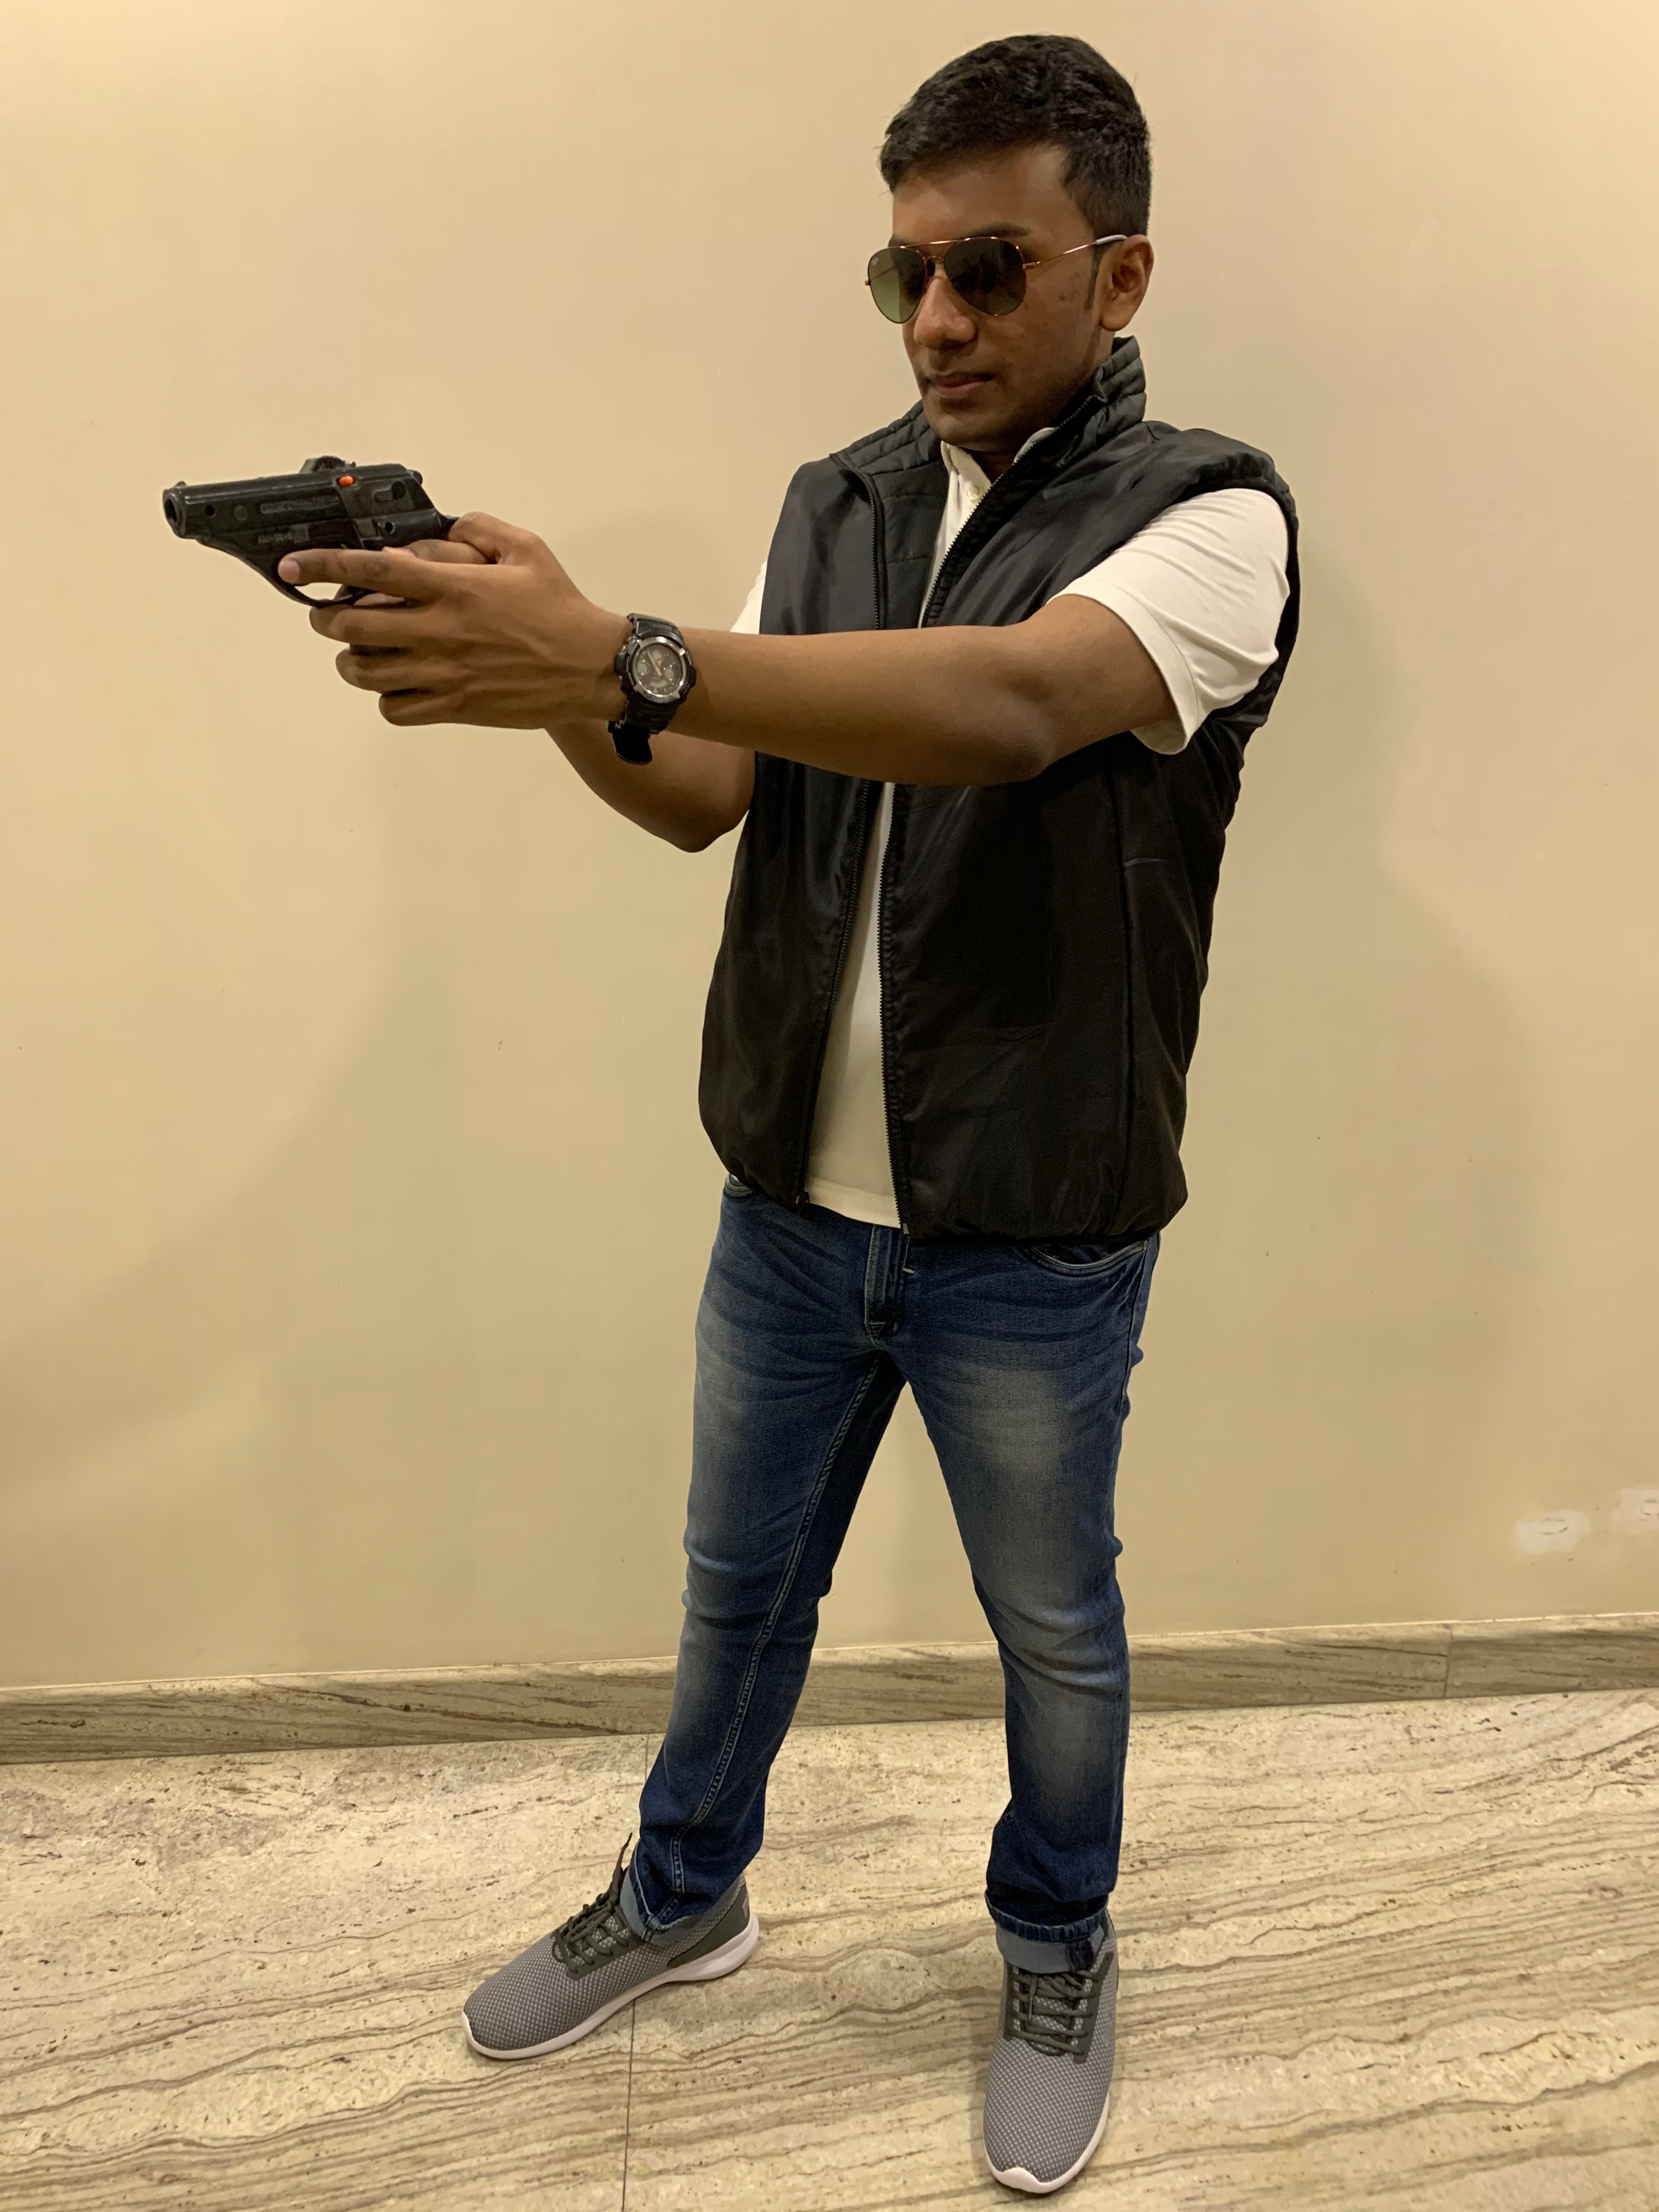gun: (162, 453, 455, 629)
